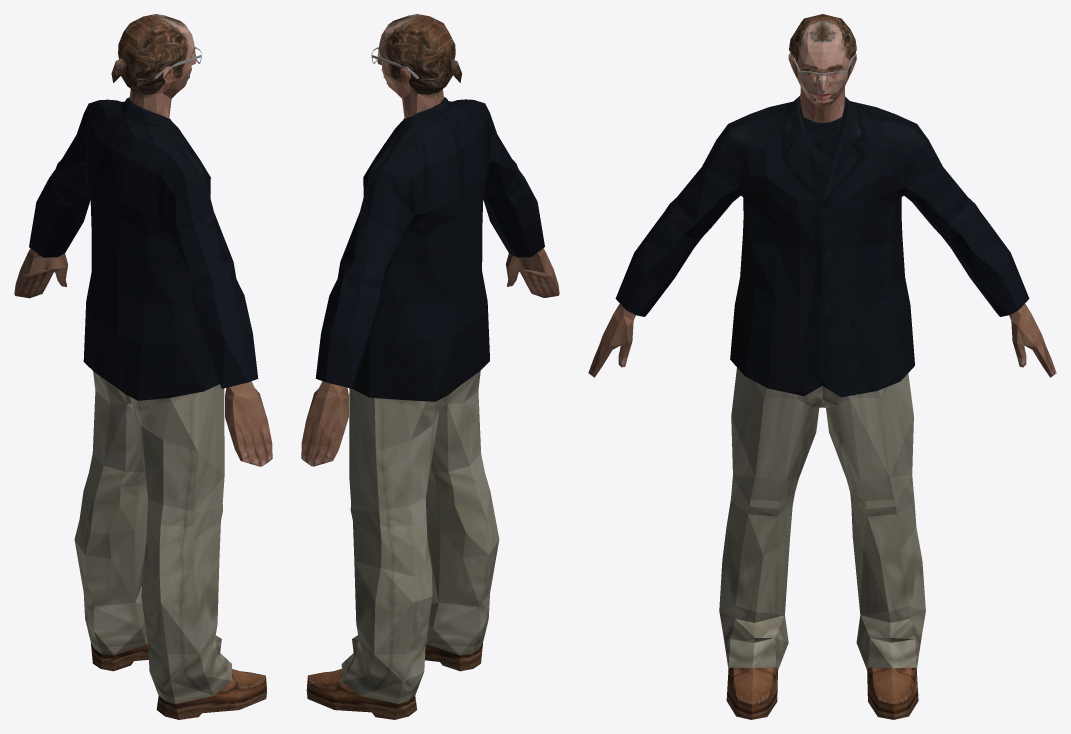
File: rose.obj
3 views of the same model, side by side, from view 1: azimuth 30°, elevation 25°; view 2: azimuth 150°, elevation 25°; view 3: azimuth 270°, elevation 25° (orthographic).
Parts seen in each view (by area): view 1: _Pelvis; view 2: _Pelvis; view 3: _Pelvis.
Boxes of the visible parts, x1,y1,x2,y2 form: _Pelvis: (14,14,272,719); _Pelvis: (301,14,559,719); _Pelvis: (588,14,1056,719).
Bounding box in the file's own units: 0.3683 × 1.83 × 1.17.
2 materials, 1 textured.
